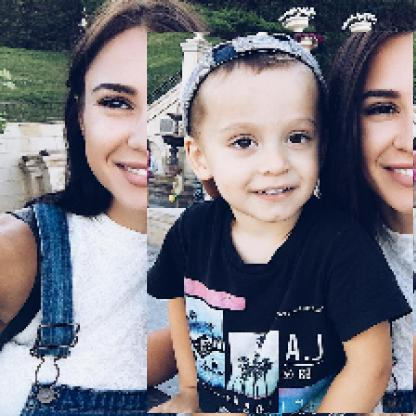child: (148, 33, 415, 415)
